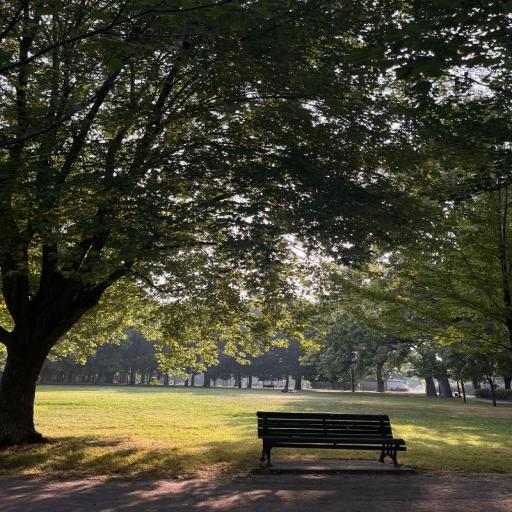shelf: (0, 474, 511, 511)
trash_bin: (257, 412, 406, 466), (263, 385, 274, 388)
